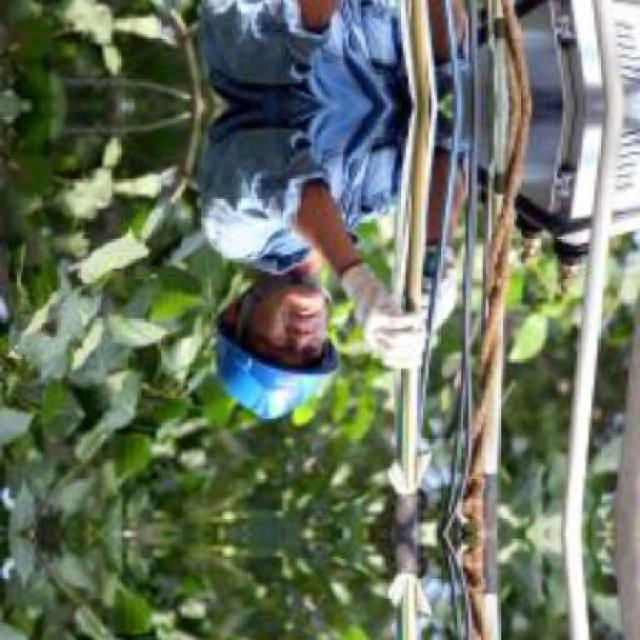con casco: (201, 204, 373, 453)
